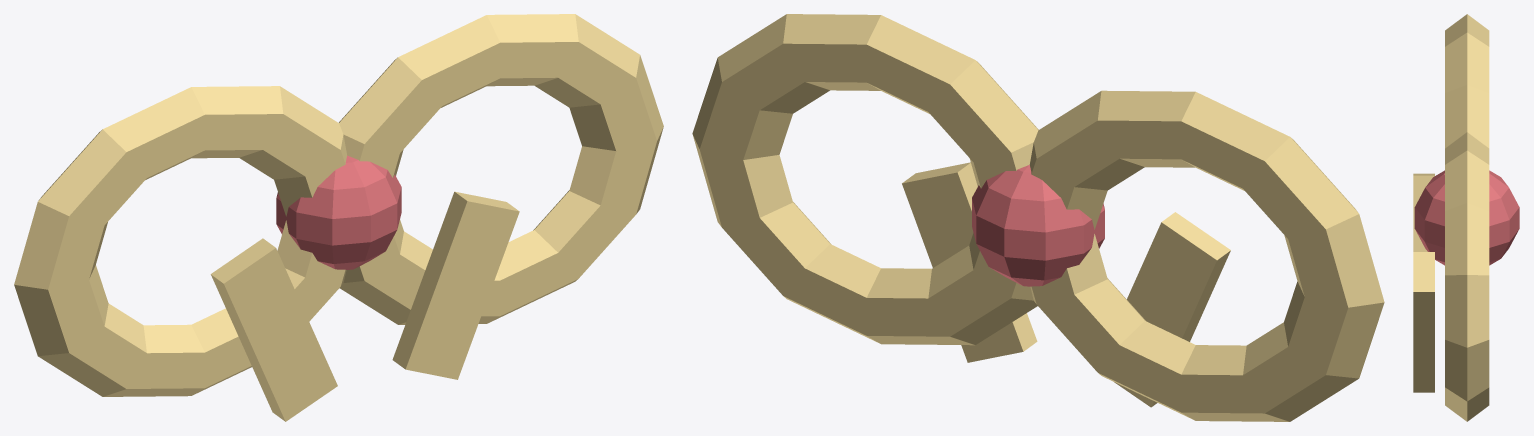
The model's file is ribbon_bow.glb.
3 renders of one model, left to right at view 1: azimuth 30°, elevation 25°; view 2: azimuth 150°, elevation 25°; view 3: azimuth 270°, elevation 25°, orthographic. The views are drawn at different scales.
Visible parts, largest first — view 1: Loop.-1, Knot; view 2: Loop.-1, Knot; view 3: Loop.-1, Knot.
Part boxes in pixels (<box>): Loop.-1: <box>14,14,663,421</box>; Knot: <box>276,155,401,269</box>; Loop.-1: <box>692,14,1384,421</box>; Knot: <box>972,165,1104,286</box>; Loop.-1: <box>1413,14,1489,421</box>; Knot: <box>1414,170,1519,265</box>.
Size of the model in its own units: 0.286 by 0.1371 by 0.0494.
